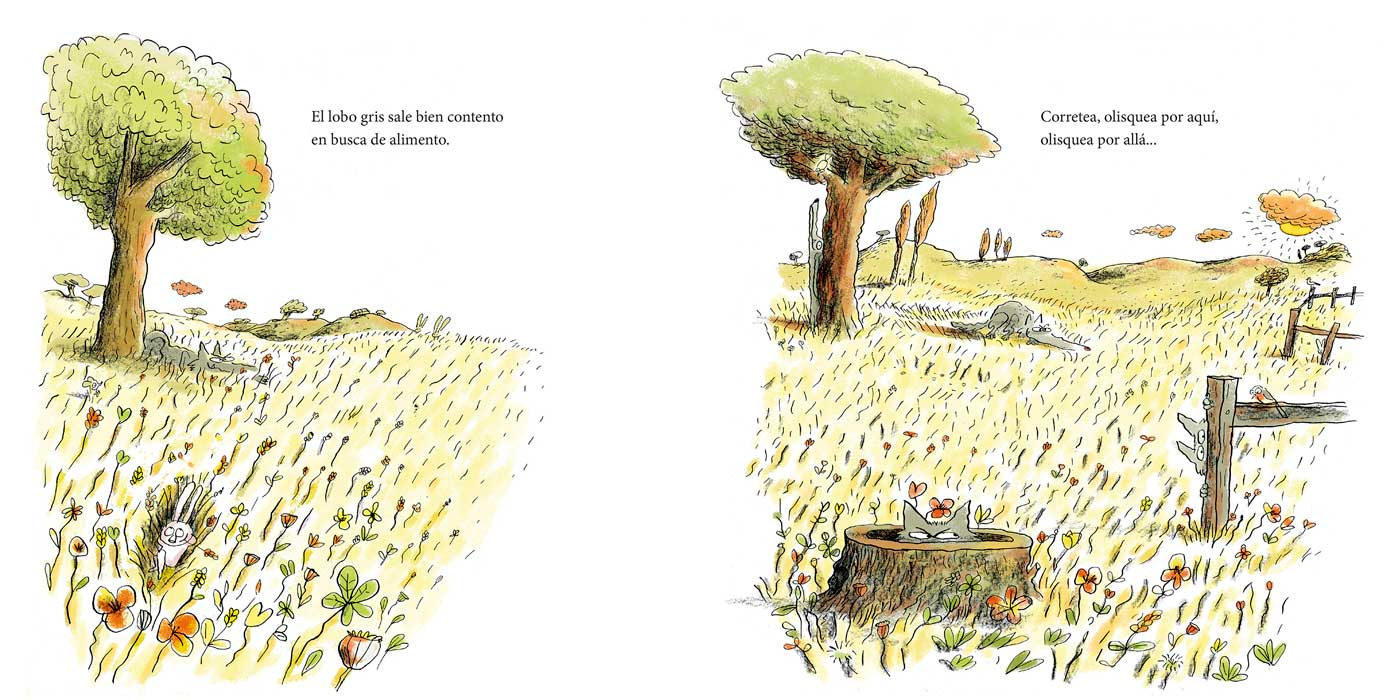Lobo: (890, 495, 995, 544)
